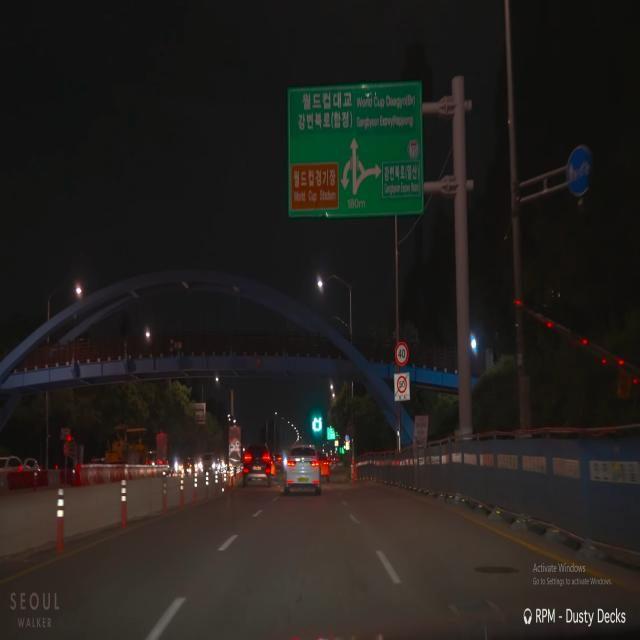headlights: (196, 454, 218, 477)
